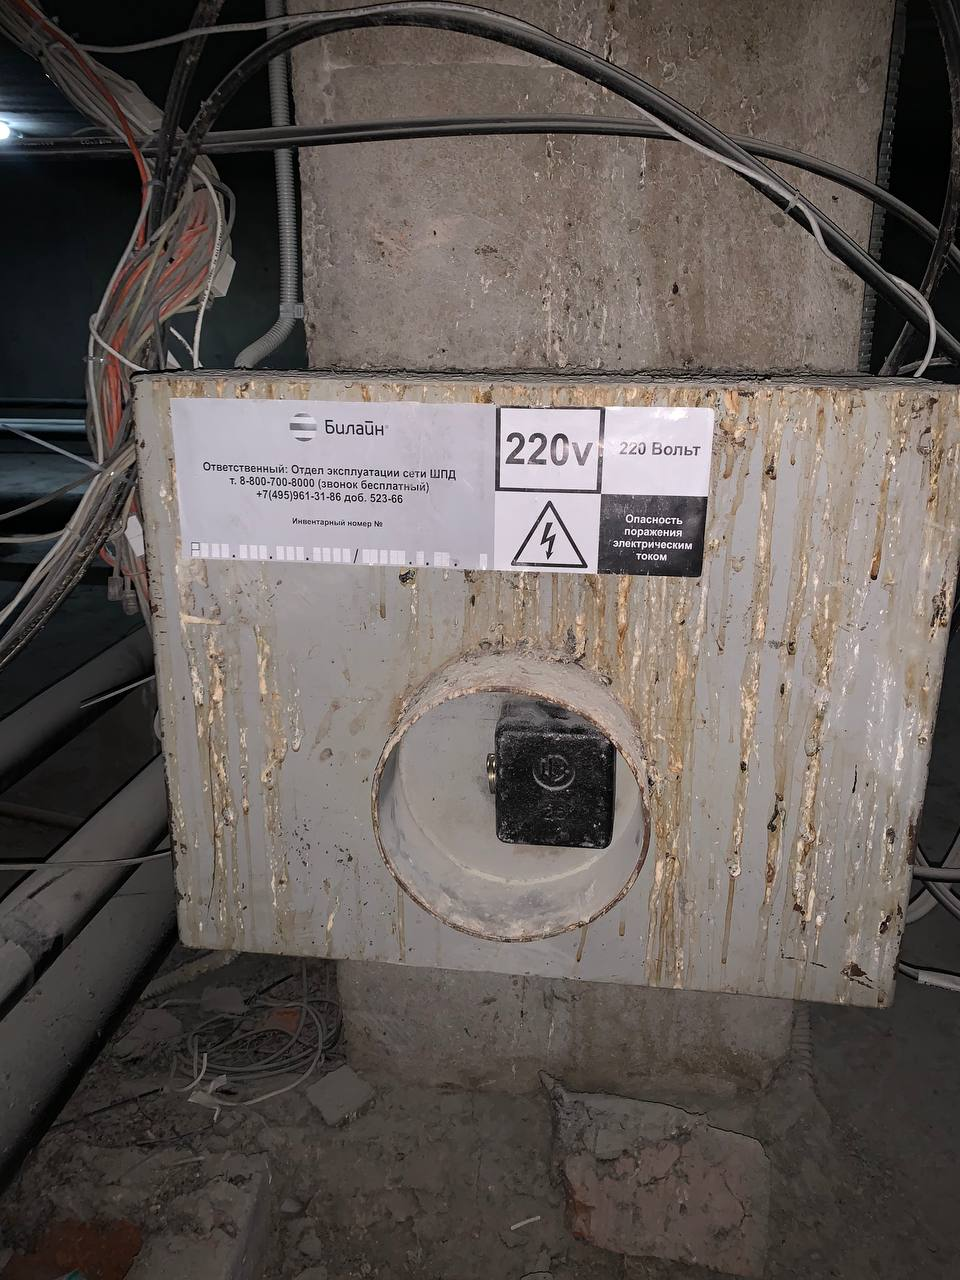shta-3: (123, 361, 956, 1014)
